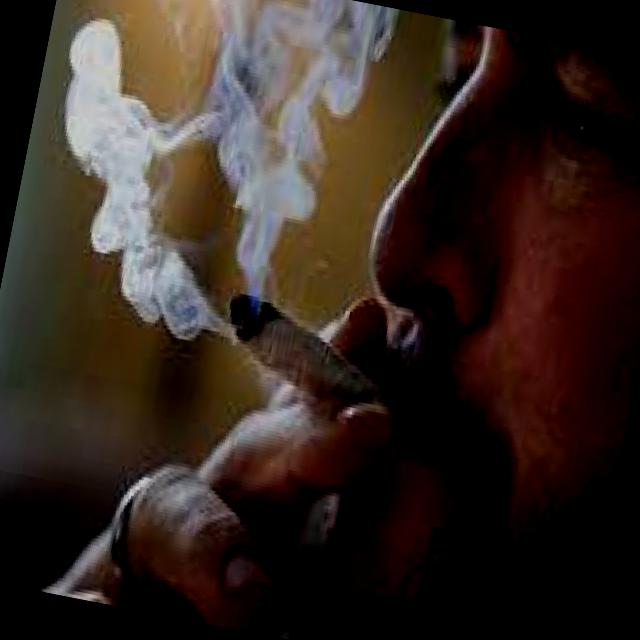smoke: (206, 281, 427, 442)
